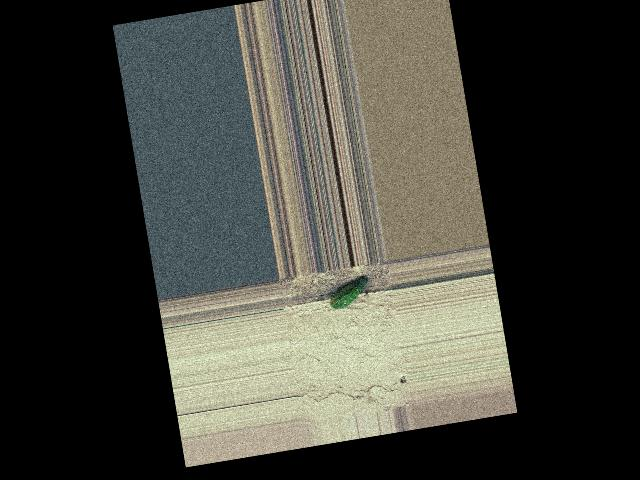cucumber: (326, 276, 370, 310)
